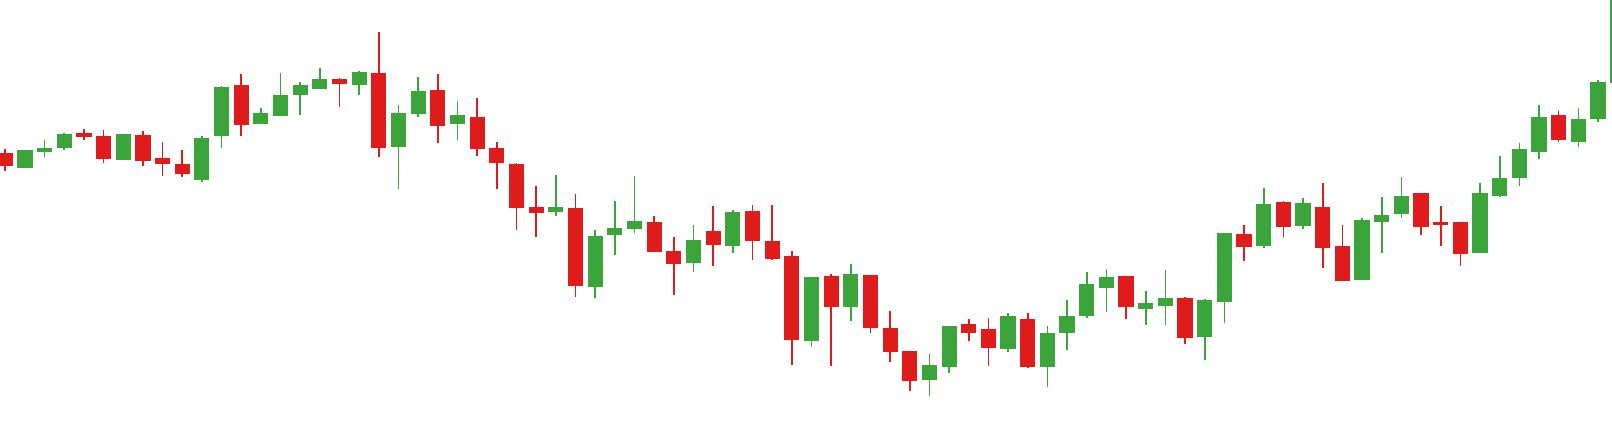buy: (784, 276, 960, 394)
